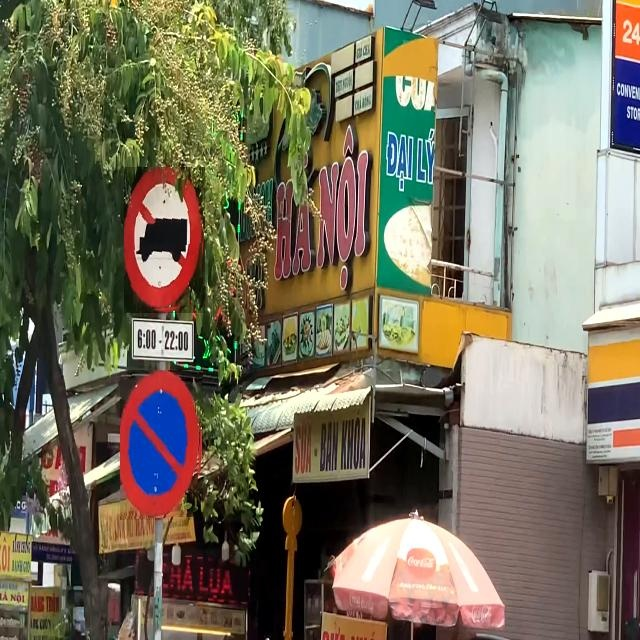bien_cam: (120, 370, 203, 520), (124, 167, 205, 313)
